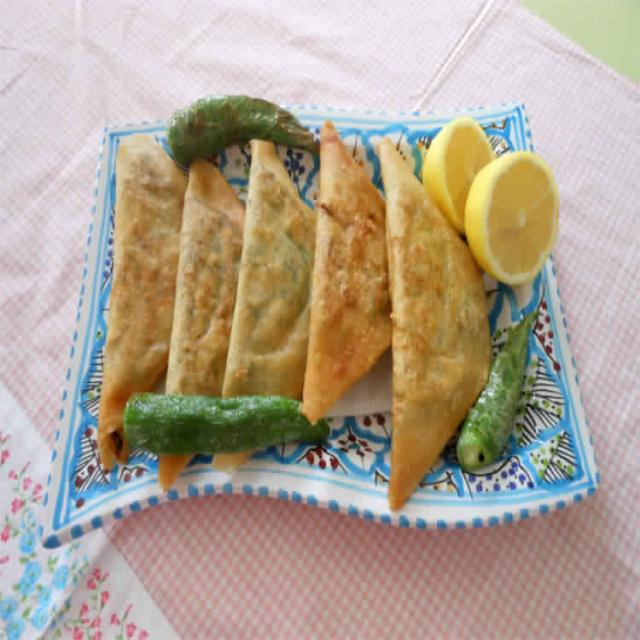brik: (382, 160, 526, 482), (77, 116, 185, 477), (292, 120, 394, 453), (224, 148, 320, 466), (168, 169, 250, 448)
